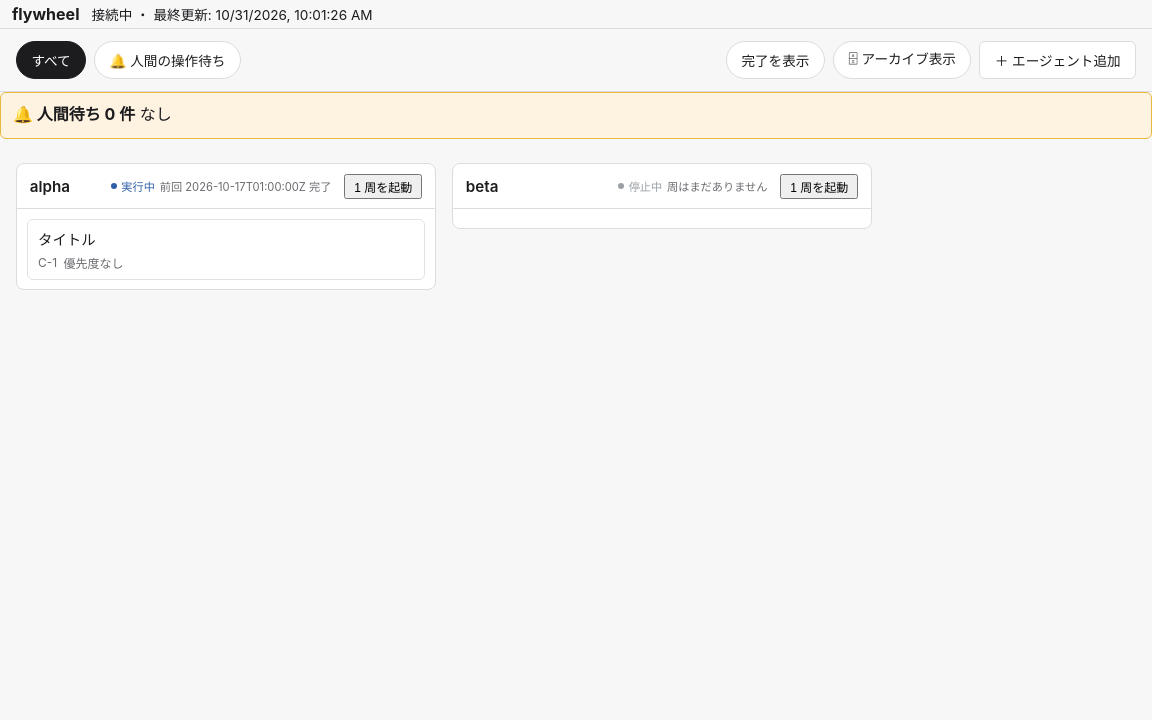
Scenario: ボードだけ・図の無い課題の詳細では読み込みの関数を呼ばない（AC-381・AC-382）
What coordinates should you click on to do the following:
click the button "タイトル C-1 優先度なし"
I would click on:
 (67, 239)
Its box is [28,220,424,279].
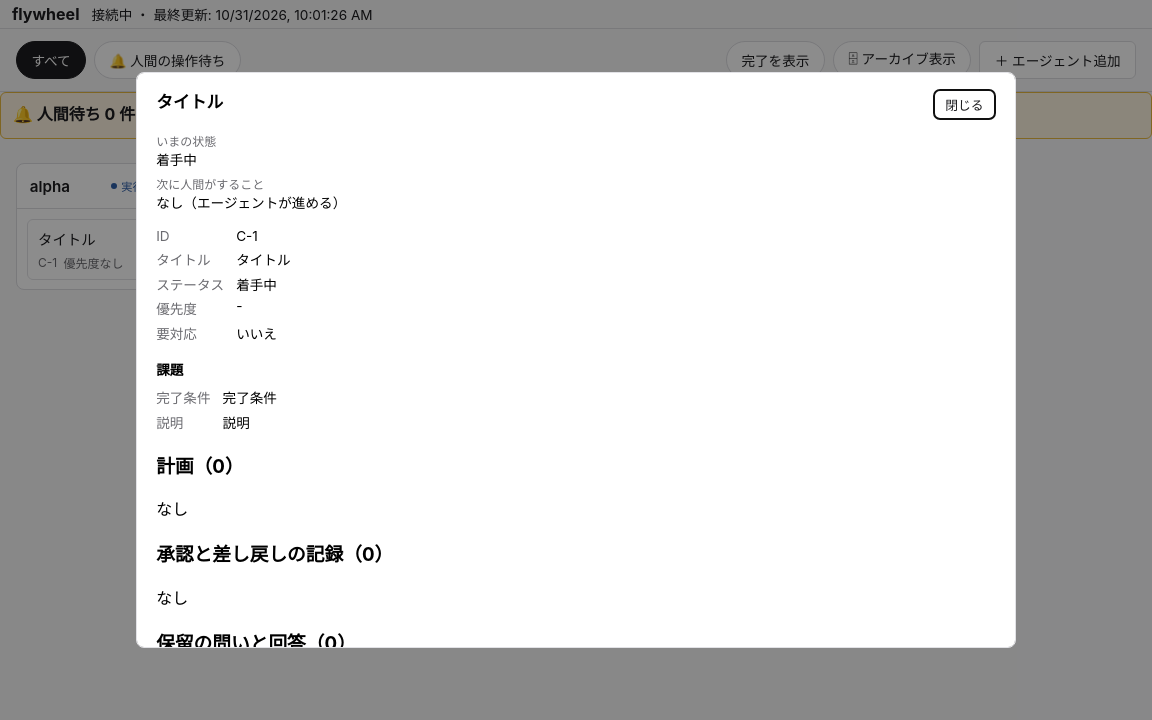
Now the element with test id "card-detail-content" is shown
